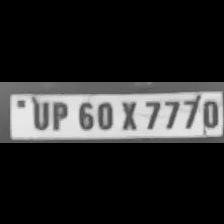0: (94, 98, 116, 130), (198, 96, 220, 128)
6: (72, 98, 96, 130)
7: (140, 97, 162, 129), (160, 96, 180, 130), (179, 96, 199, 128)
P: (49, 98, 71, 130)
U: (28, 97, 50, 129)
X: (116, 97, 140, 130)
